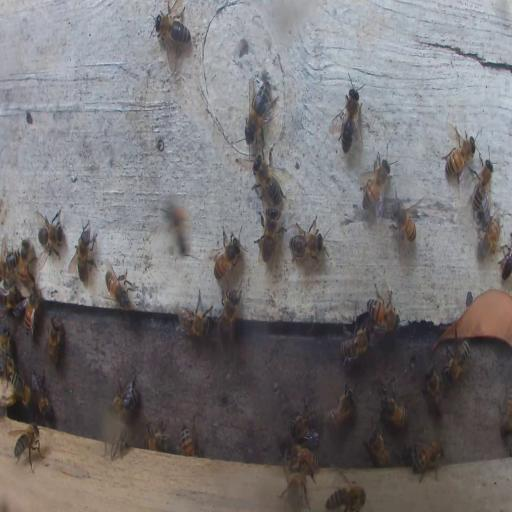nonpollenbee: (333, 76, 364, 154), (360, 150, 394, 216), (244, 78, 278, 140), (154, 4, 190, 57), (444, 124, 476, 183), (252, 151, 286, 206), (253, 203, 281, 266), (288, 216, 326, 262), (212, 226, 244, 280), (72, 216, 97, 283), (35, 208, 66, 261), (13, 420, 44, 472), (470, 153, 494, 220), (178, 295, 212, 341), (408, 440, 444, 482), (390, 196, 419, 245), (326, 385, 355, 430), (218, 287, 241, 342), (109, 374, 139, 416), (105, 265, 133, 309), (281, 445, 319, 476), (340, 324, 370, 363), (366, 297, 398, 333), (325, 484, 367, 511), (424, 366, 446, 416), (443, 342, 469, 384), (32, 368, 52, 422), (366, 426, 391, 468), (290, 407, 320, 442), (280, 474, 308, 511), (478, 214, 501, 258), (6, 366, 30, 408), (18, 287, 41, 329), (380, 393, 407, 428), (46, 315, 63, 367), (498, 386, 512, 440), (18, 239, 34, 286), (144, 422, 170, 450), (1, 244, 19, 282), (1, 329, 13, 374), (2, 288, 24, 311), (180, 425, 195, 456), (500, 244, 512, 278)
pollenbee: (161, 197, 190, 260)
